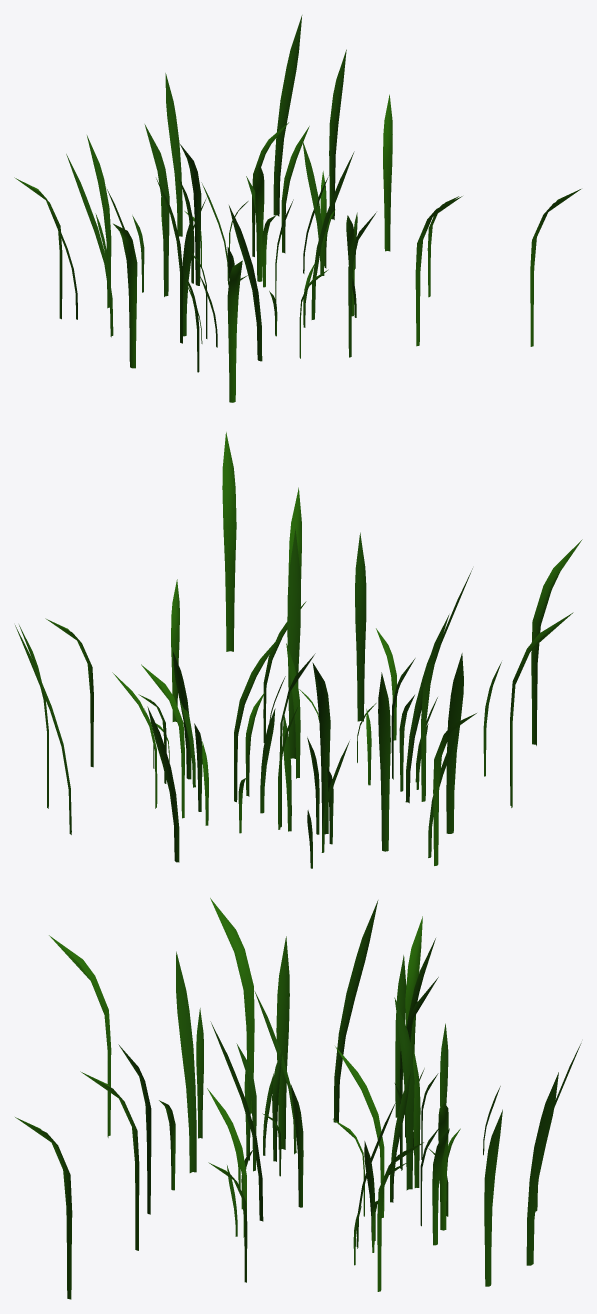
The model's file is Gras1.fbx.
3 renders of one model, top to bottom at view 1: azimuth 30°, elevation 25°; view 2: azimuth 150°, elevation 25°; view 3: azimuth 270°, elevation 25°, orthographic. The views are drawn at different scales.
Parts seen in each view (by area): view 1: Gras1; view 2: Gras1; view 3: Gras1.
Part boxes in pixels (box(x1,y1,x2,y2)): Gras1: box(14, 15, 580, 402); Gras1: box(15, 432, 582, 868); Gras1: box(15, 898, 581, 1299).
Size of the model in its own units: 2.71 by 1.21 by 2.89.
